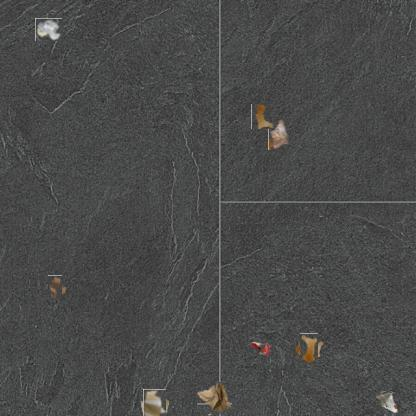dirty: (197, 381, 231, 415), (141, 390, 167, 416), (268, 120, 289, 150), (35, 18, 62, 41), (376, 392, 400, 416), (46, 278, 65, 298), (250, 340, 272, 356)
liquid: (297, 337, 322, 361), (251, 104, 274, 130)
